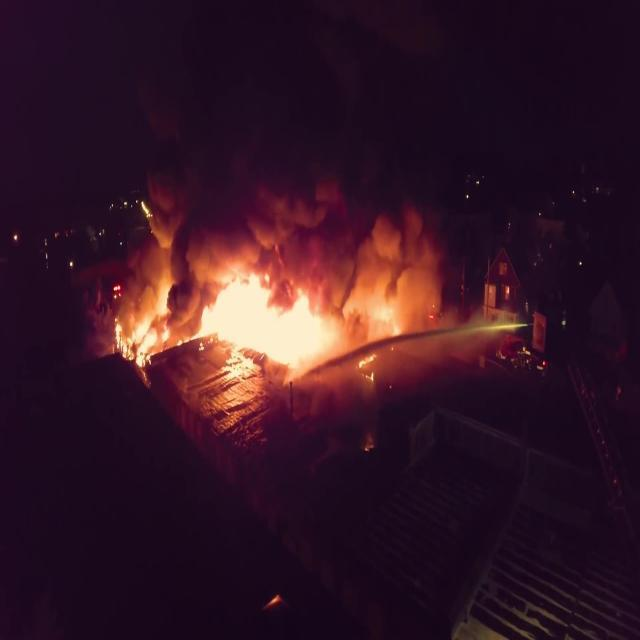Fire: (116, 270, 337, 375), (368, 300, 404, 336)
Smoke: (121, 0, 574, 270)
